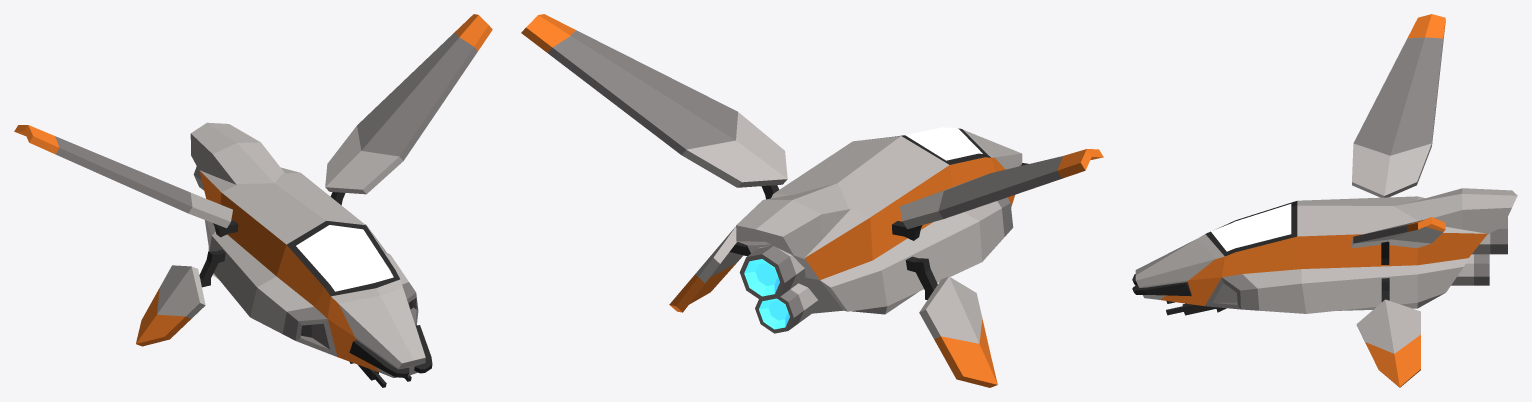
The model's file is scifi-scifi-spaceship-four-wing.glb.
3 views of the same model, side by side, from view 1: azimuth 30°, elevation 25°; view 2: azimuth 150°, elevation 25°; view 3: azimuth 270°, elevation 25° (orthographic). The views are drawn at different scales.
Visible parts, largest first — view 1: scifi-spaceship-four-wing; view 2: scifi-spaceship-four-wing; view 3: scifi-spaceship-four-wing.
Boxes of the visible parts, x1,y1,x2,y2 form: scifi-spaceship-four-wing: (14, 14, 492, 387); scifi-spaceship-four-wing: (521, 14, 1103, 387); scifi-spaceship-four-wing: (1132, 14, 1517, 387).
Size of the model in its own units: 9.87 by 4.73 by 7.7.
